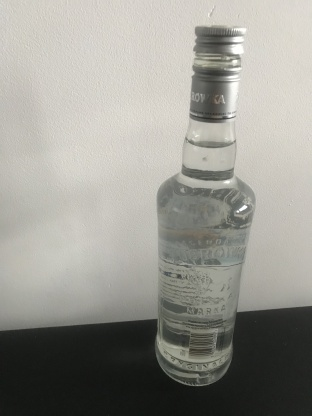nakretka: (187, 21, 248, 122)
